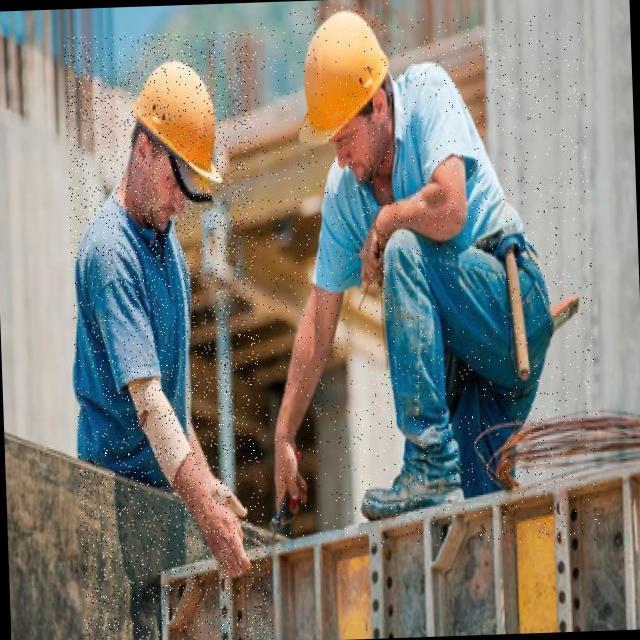hard_hat: (120, 48, 247, 192), (281, 2, 402, 153)
vehicle: (247, 11, 600, 551), (63, 30, 273, 640)
work_boots: (350, 423, 470, 531)
